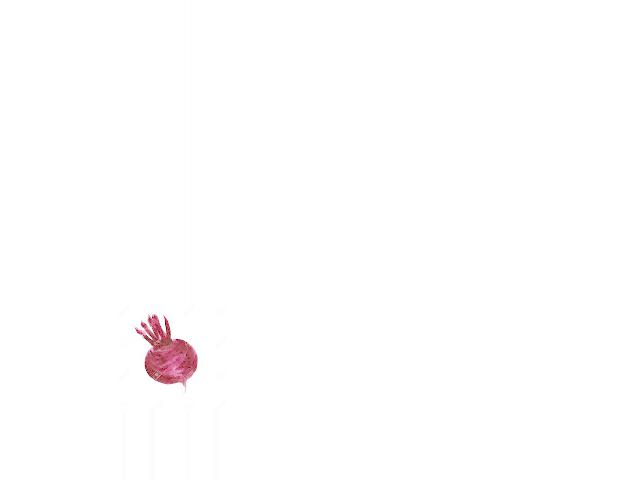beet: (135, 314, 198, 394)
